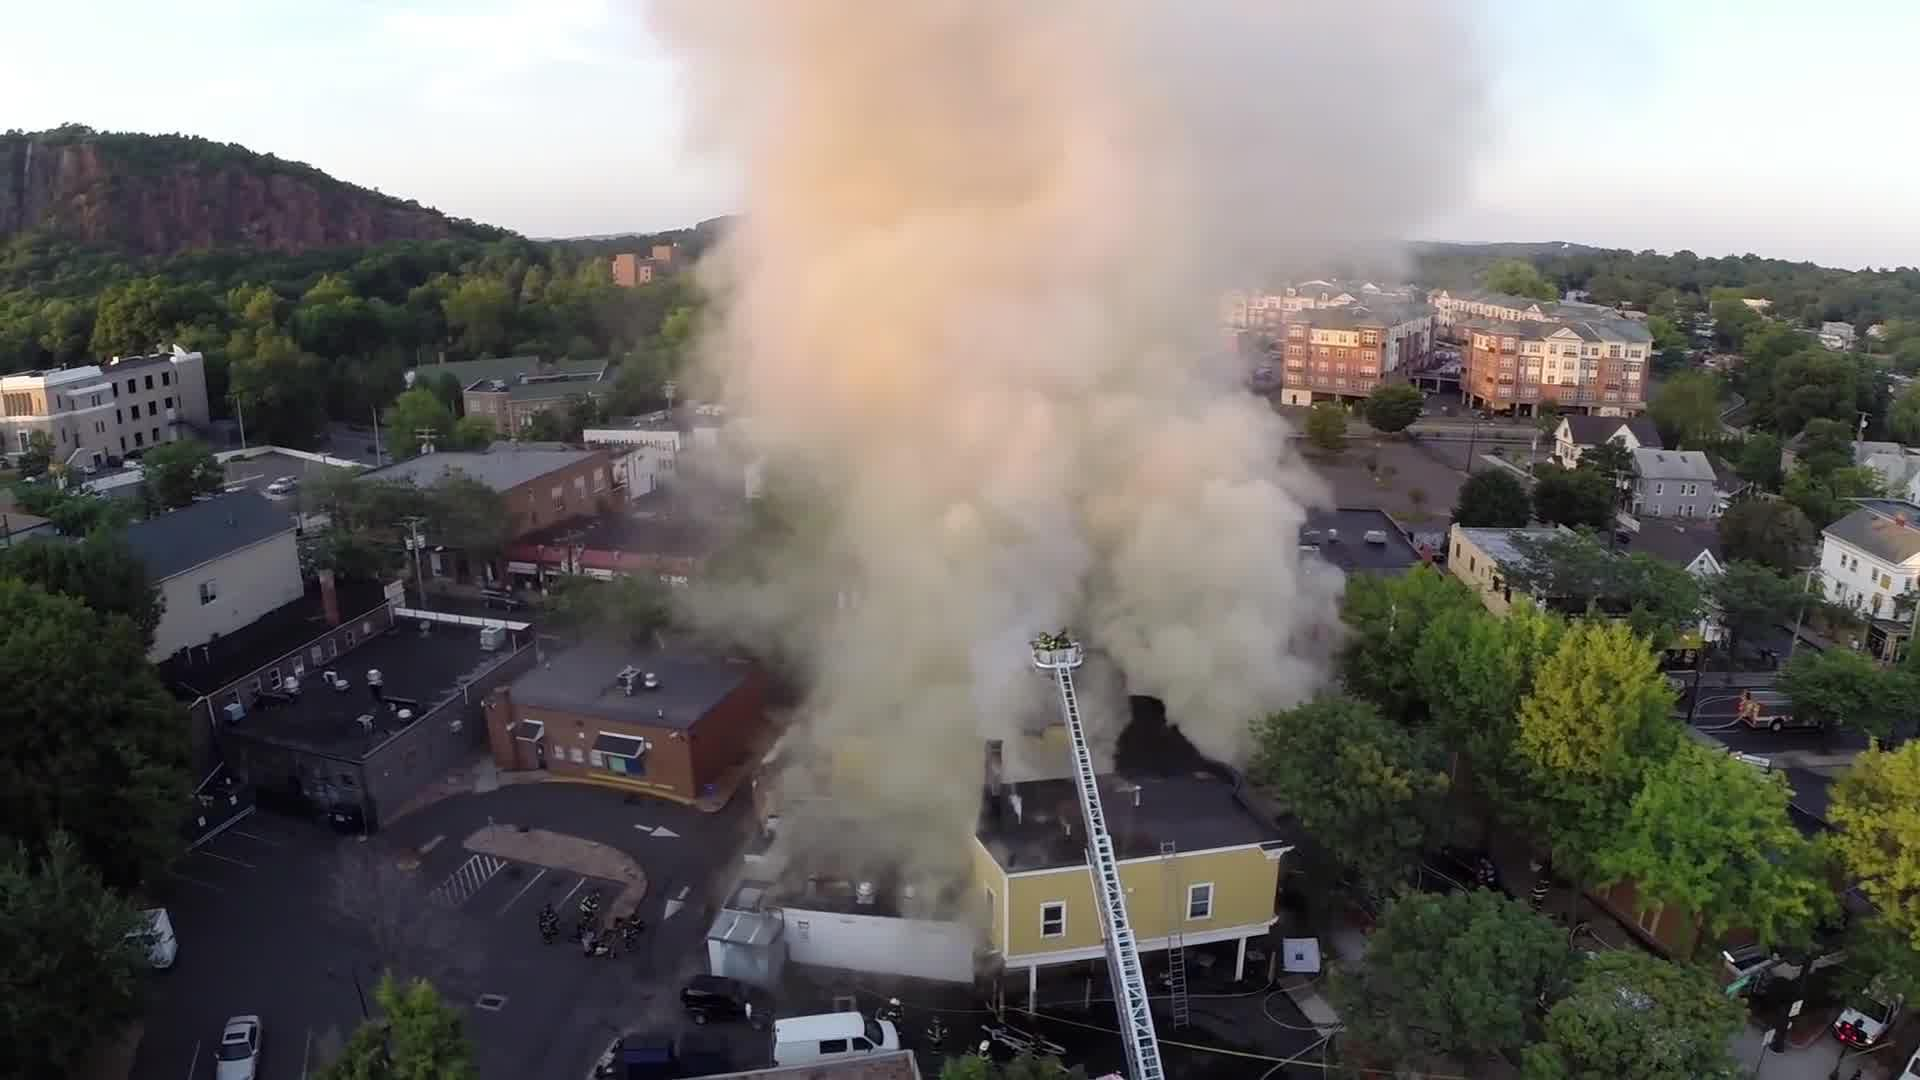smoke: (643, 8, 1294, 713), (618, 8, 1483, 261)
